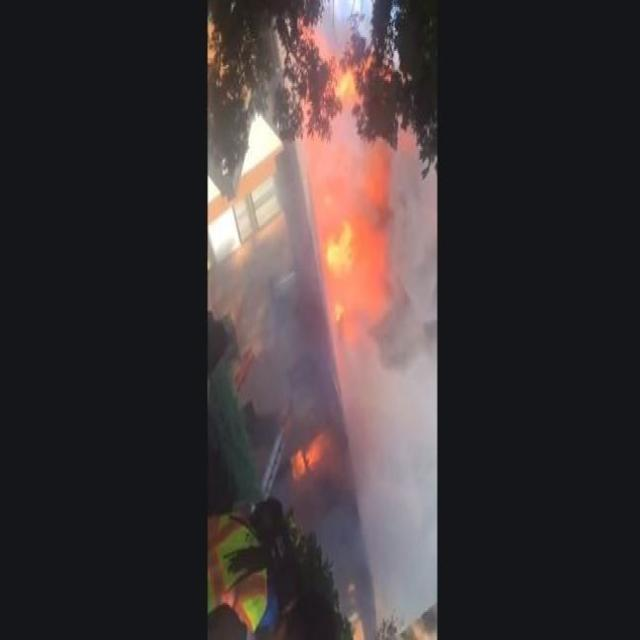Fire: (304, 143, 390, 324)
Smoke: (340, 349, 436, 572)
